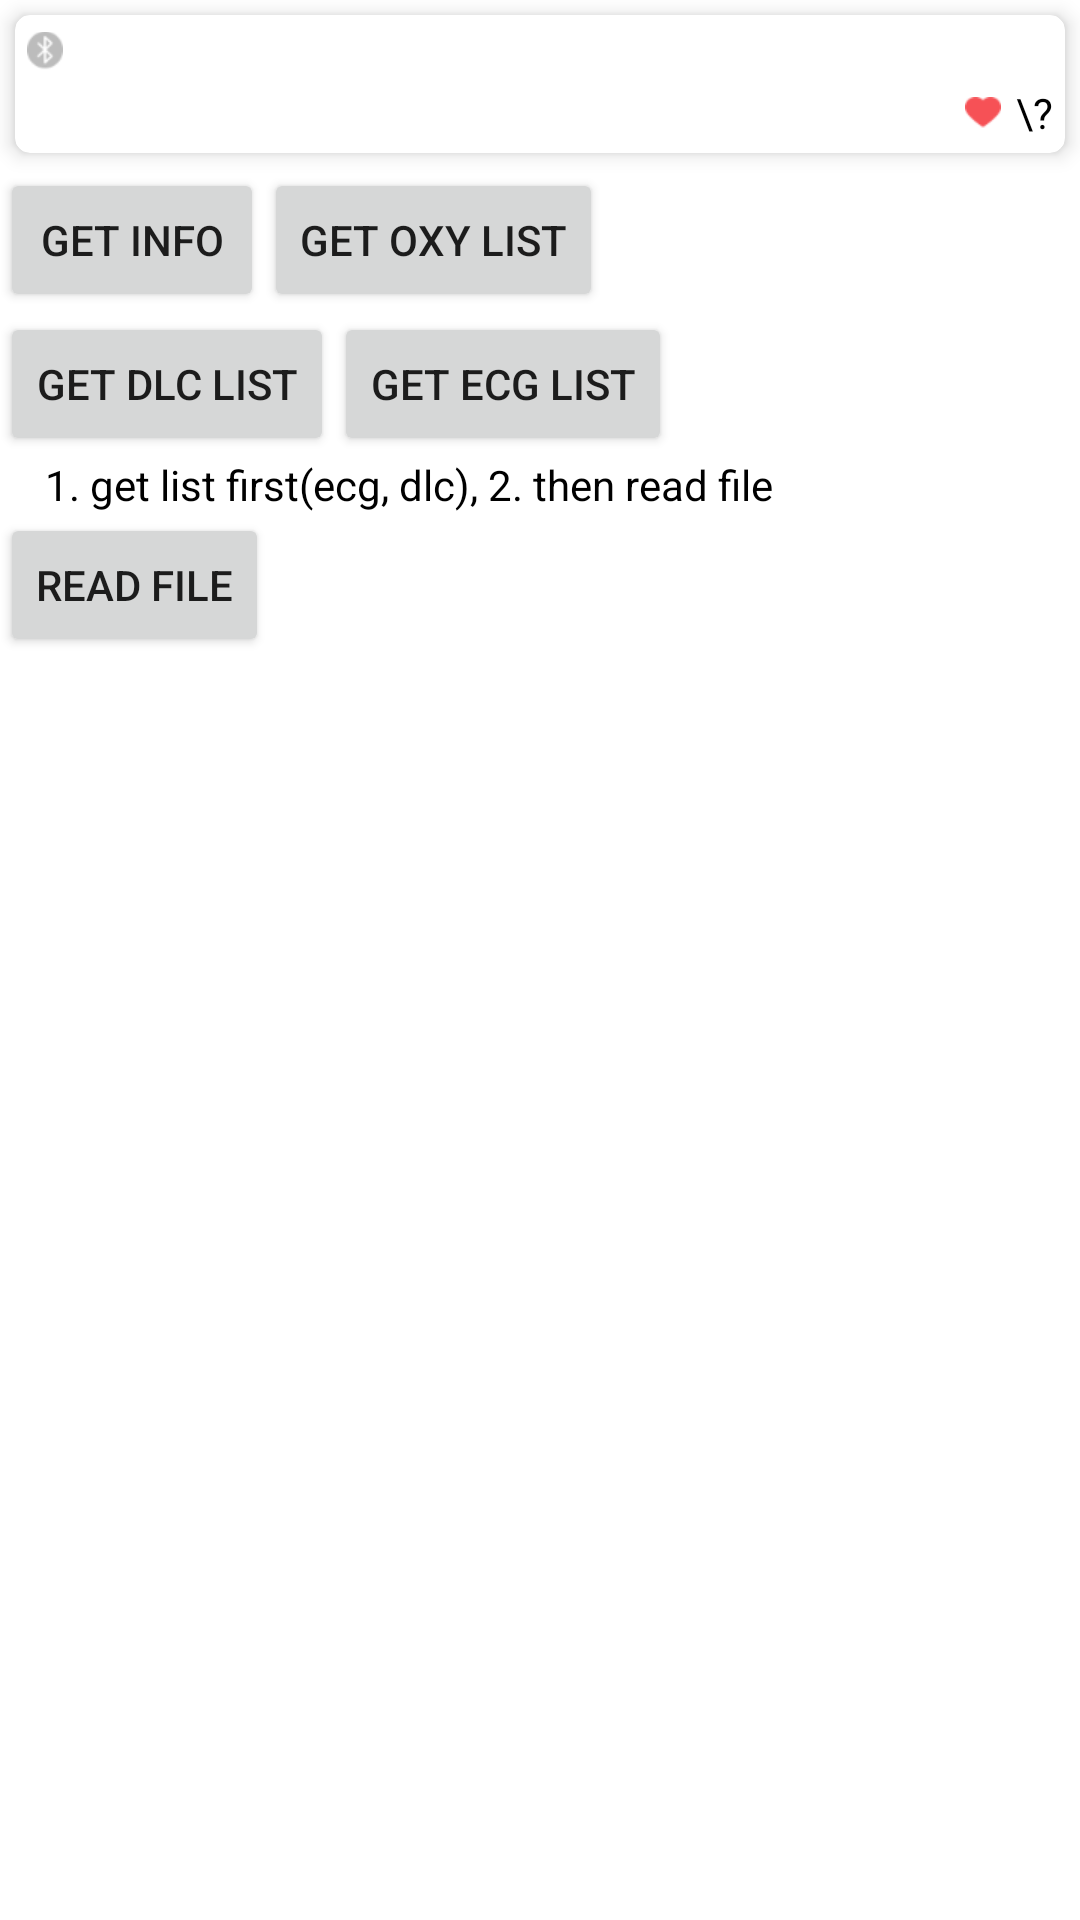

Named icons in this screenshot (1080x1920) and their centers, [x,y]:
heart: [983,112]
